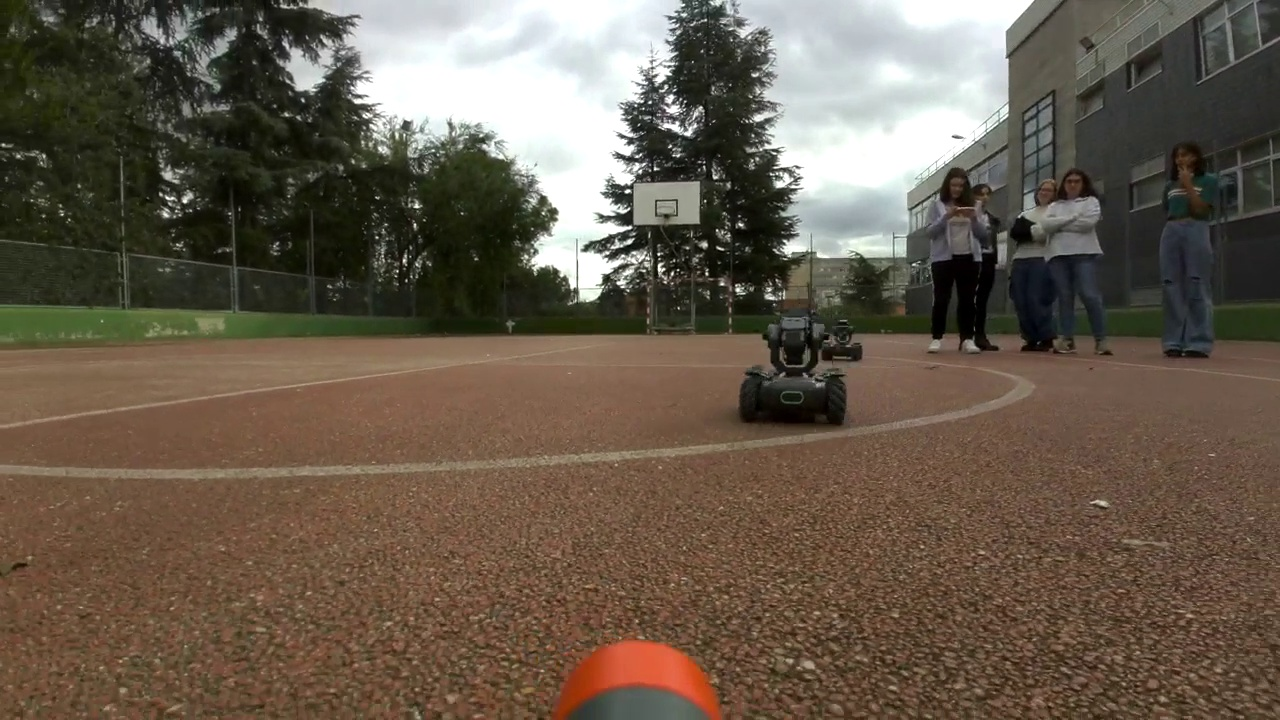robot: (739, 309, 846, 422), (826, 321, 860, 362)
